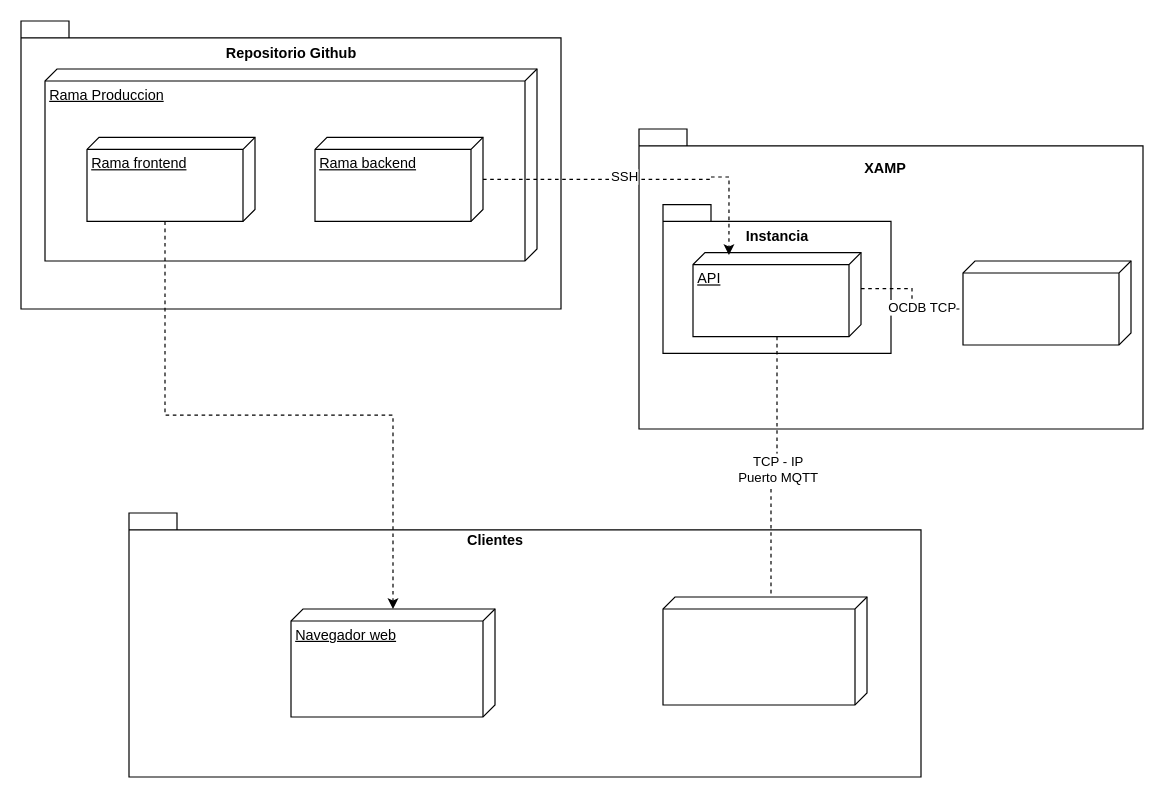
This 1164x798 diagram has some shape labels left out. Here are the shapes that lost their labels. From the top down, the box of each, then its label:
(962, 260, 1131, 345): MySQL database
(662, 596, 867, 705): Dispositivo medidor
